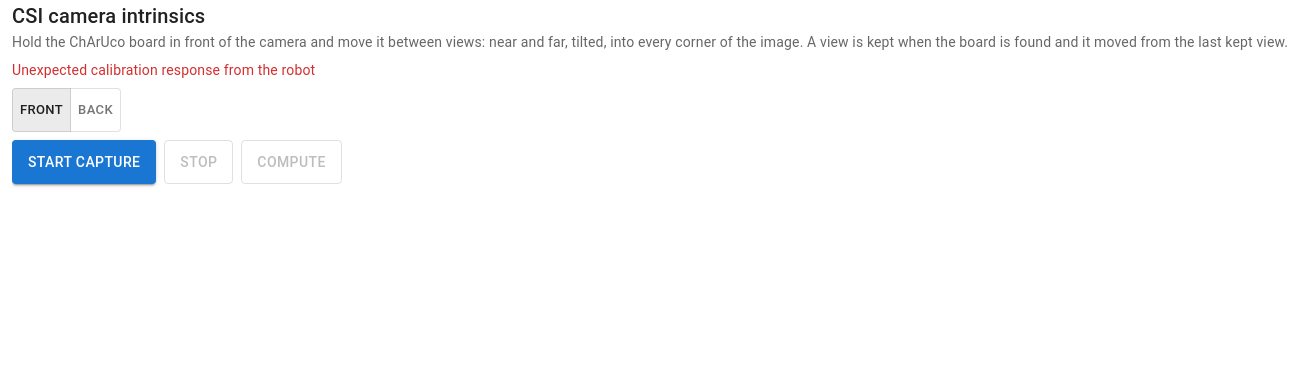
Test: CsiIntrinsics › start captures, polls the kept-view count with the coverage grid, stop ends it
The width and height of the screenshot is (1304, 381).
Click the button "Start capture" at (84, 162), box [12,140,156,184]
Wait 2000 ms
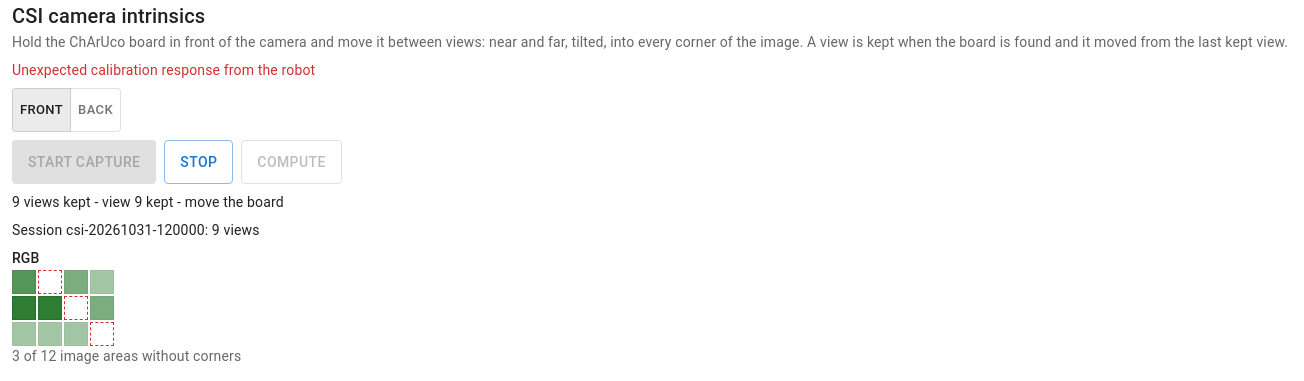
expect the text "9 views kept - view 9 kept - move the board" is shown: met, box [12,194,284,210]
expect the number of elements with test id "coverage-cell-empty" is 3: met, box [38,270,62,294]; [64,296,88,320]; [90,322,114,346]
expect the number of elements with test id "coverage-cell" is 9: met
Click the button "Stop" at (199, 162), box [164,140,233,184]
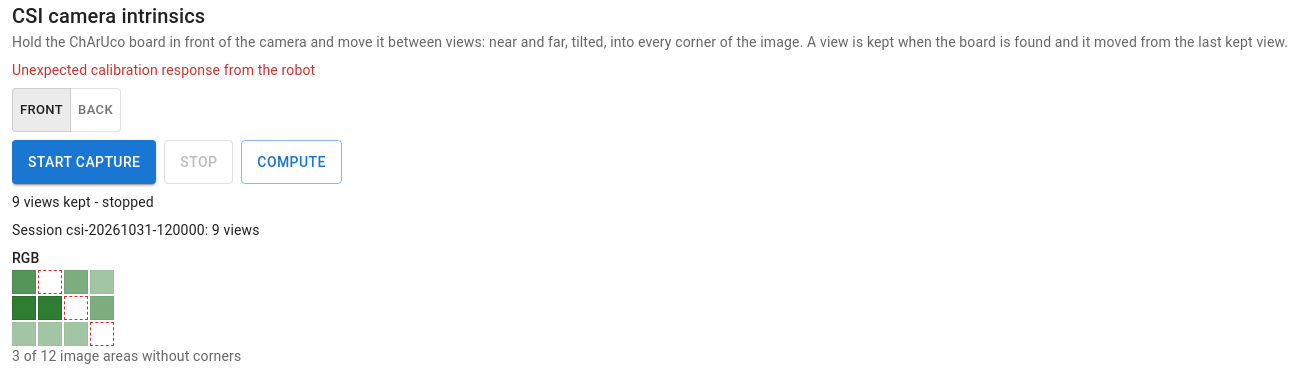
expect the button "Compute" is enabled: met, box [241,140,342,184]
